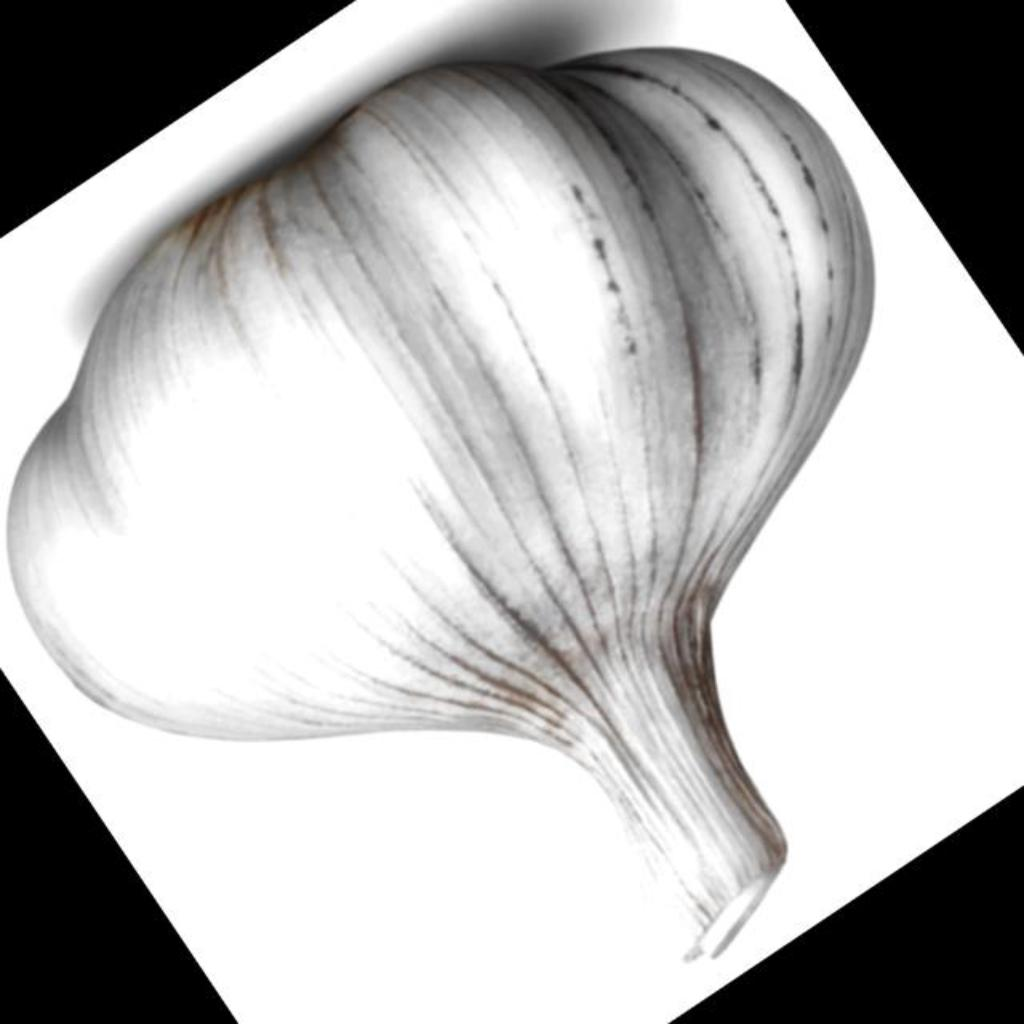garlic: (8, 50, 874, 955)
